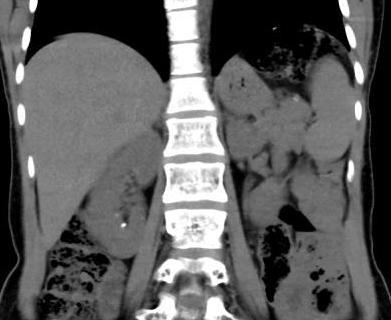Tas_Var: (120, 221, 128, 229), (114, 213, 122, 220)
